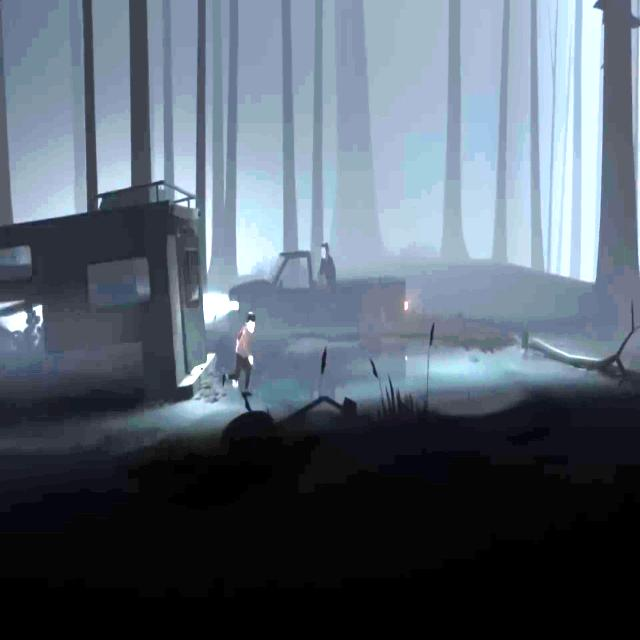boy: (222, 312, 256, 396)
human: (319, 242, 336, 286)
